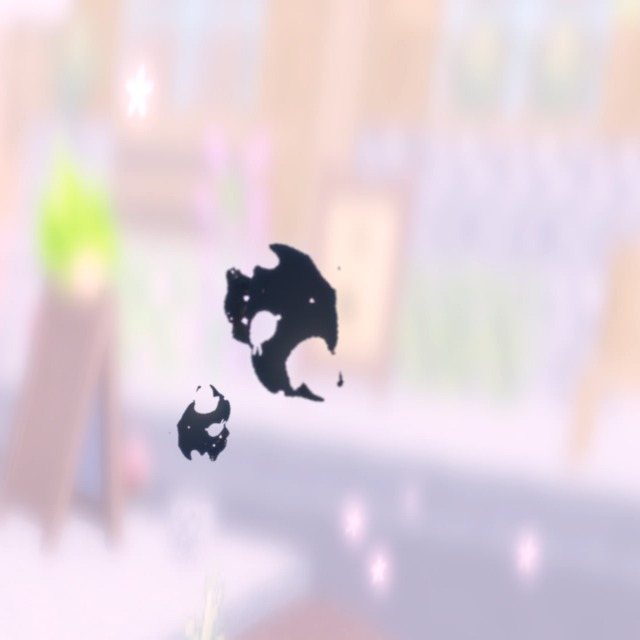urso_preto: (195, 206, 379, 440), (152, 365, 257, 485)
